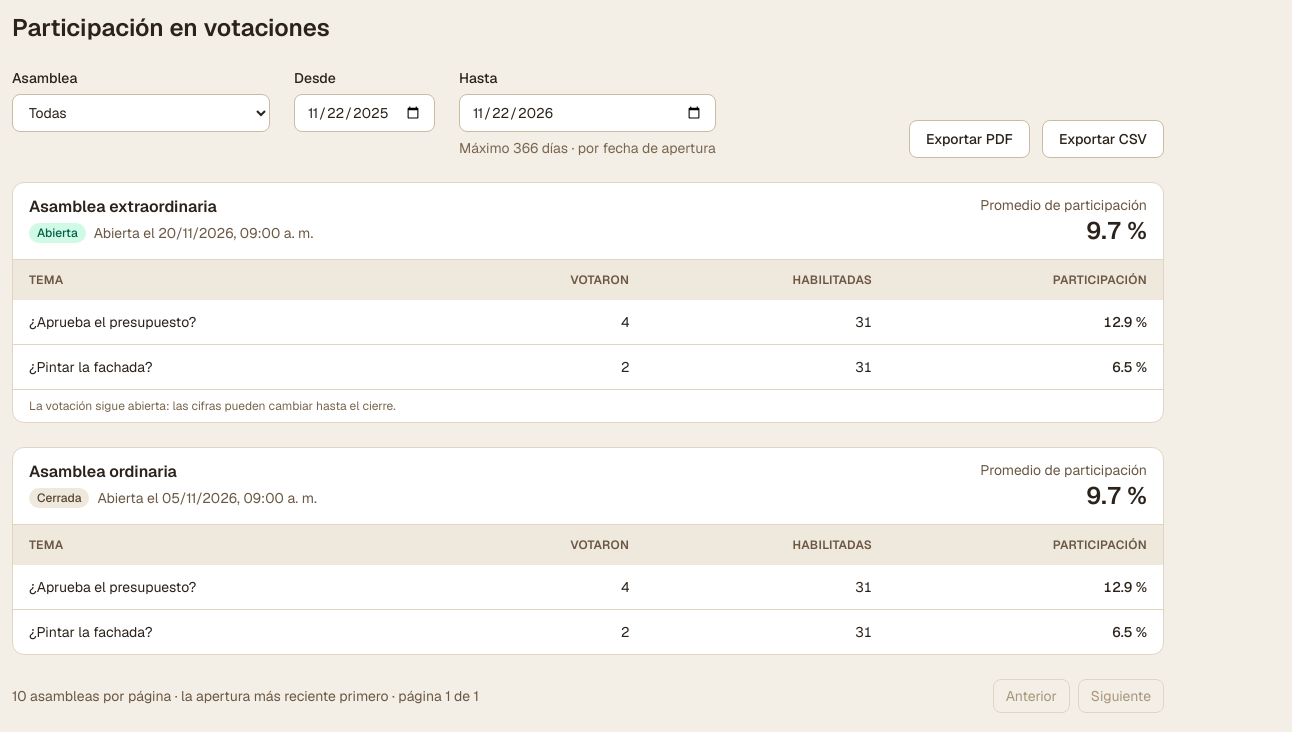
Test: H35. Reporte de participación en votaciones › AC2: al elegir una asamblea filtra por ella y deshabilita las fechas
Select "Asamblea ordinaria · Cerrada" in the dropdown labelled "Asamblea" at x=141, y=113, box [12, 94, 270, 132]
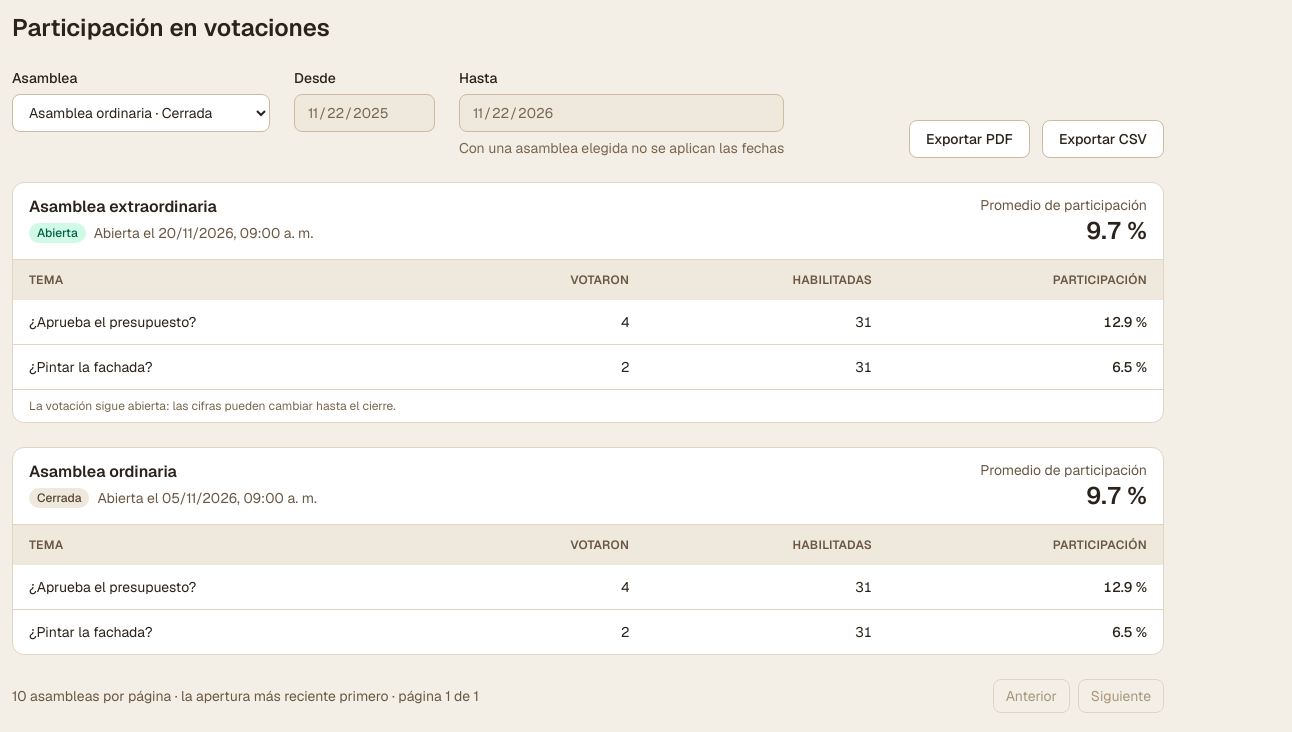
Expected: the date field labelled "Desde" is disabled, [294, 94, 435, 132]
